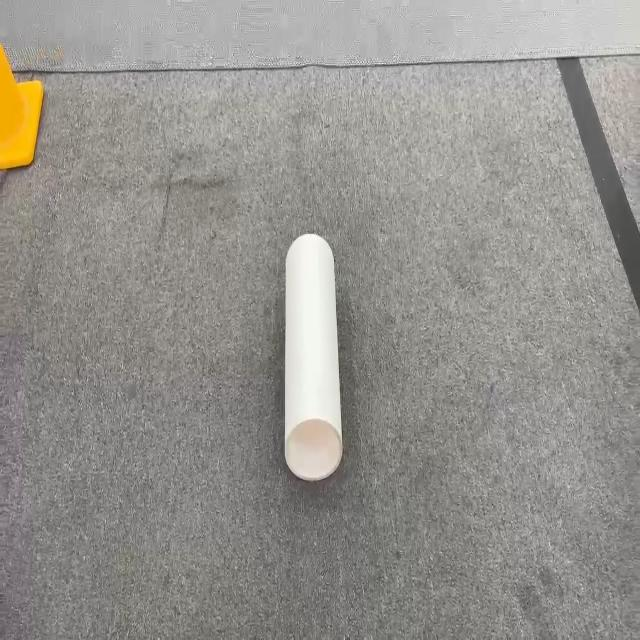coral: (283, 231, 343, 481)
